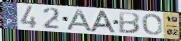2: (42, 7, 61, 29)
4: (19, 5, 39, 29)
A: (66, 9, 94, 33), (89, 10, 117, 34)
B: (118, 11, 141, 35)
O: (141, 13, 163, 36)
